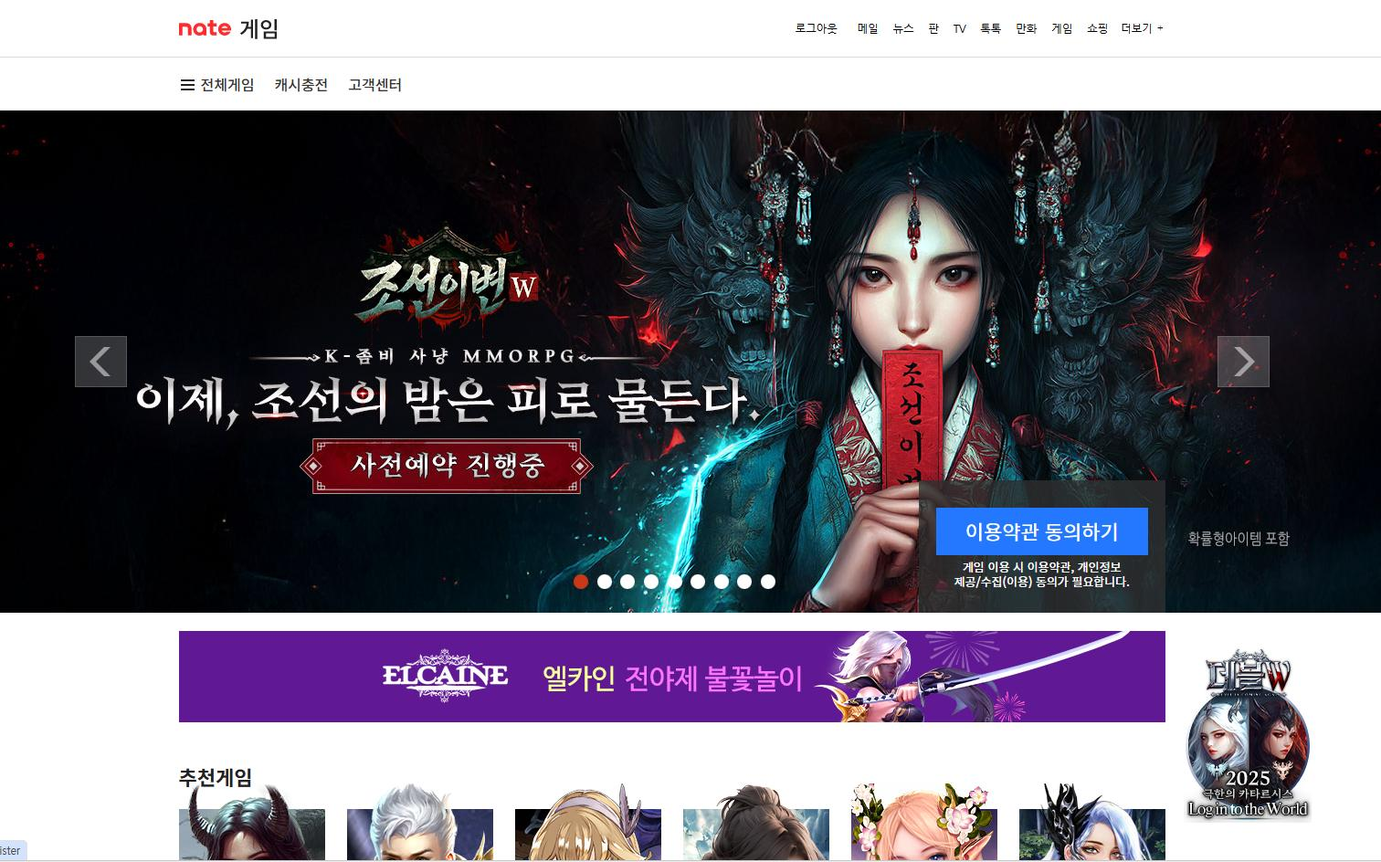button: (938, 506, 1152, 554), (176, 12, 289, 50), (176, 63, 258, 102), (77, 331, 127, 390), (346, 63, 418, 102), (1223, 341, 1271, 393), (271, 64, 334, 100), (793, 18, 844, 44), (975, 15, 1007, 44), (849, 15, 881, 42), (1046, 15, 1077, 42), (1014, 15, 1041, 45), (891, 15, 918, 43), (947, 16, 973, 44), (923, 16, 945, 45), (1082, 17, 1111, 39)
checkbox: (1121, 16, 1165, 45)
popup: (0, 107, 1381, 612), (179, 630, 1168, 720), (1181, 635, 1340, 835)
